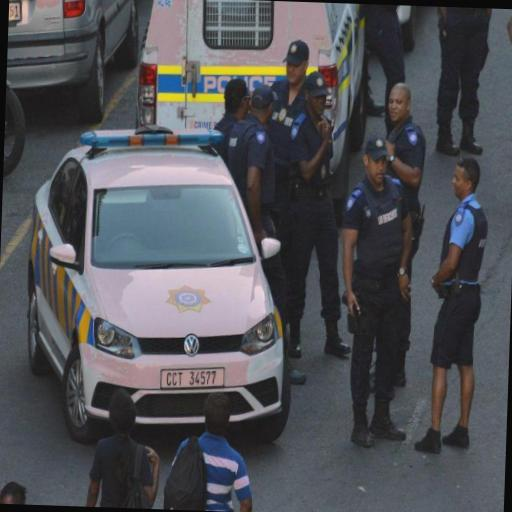Ambulance: (20, 125, 298, 442)
